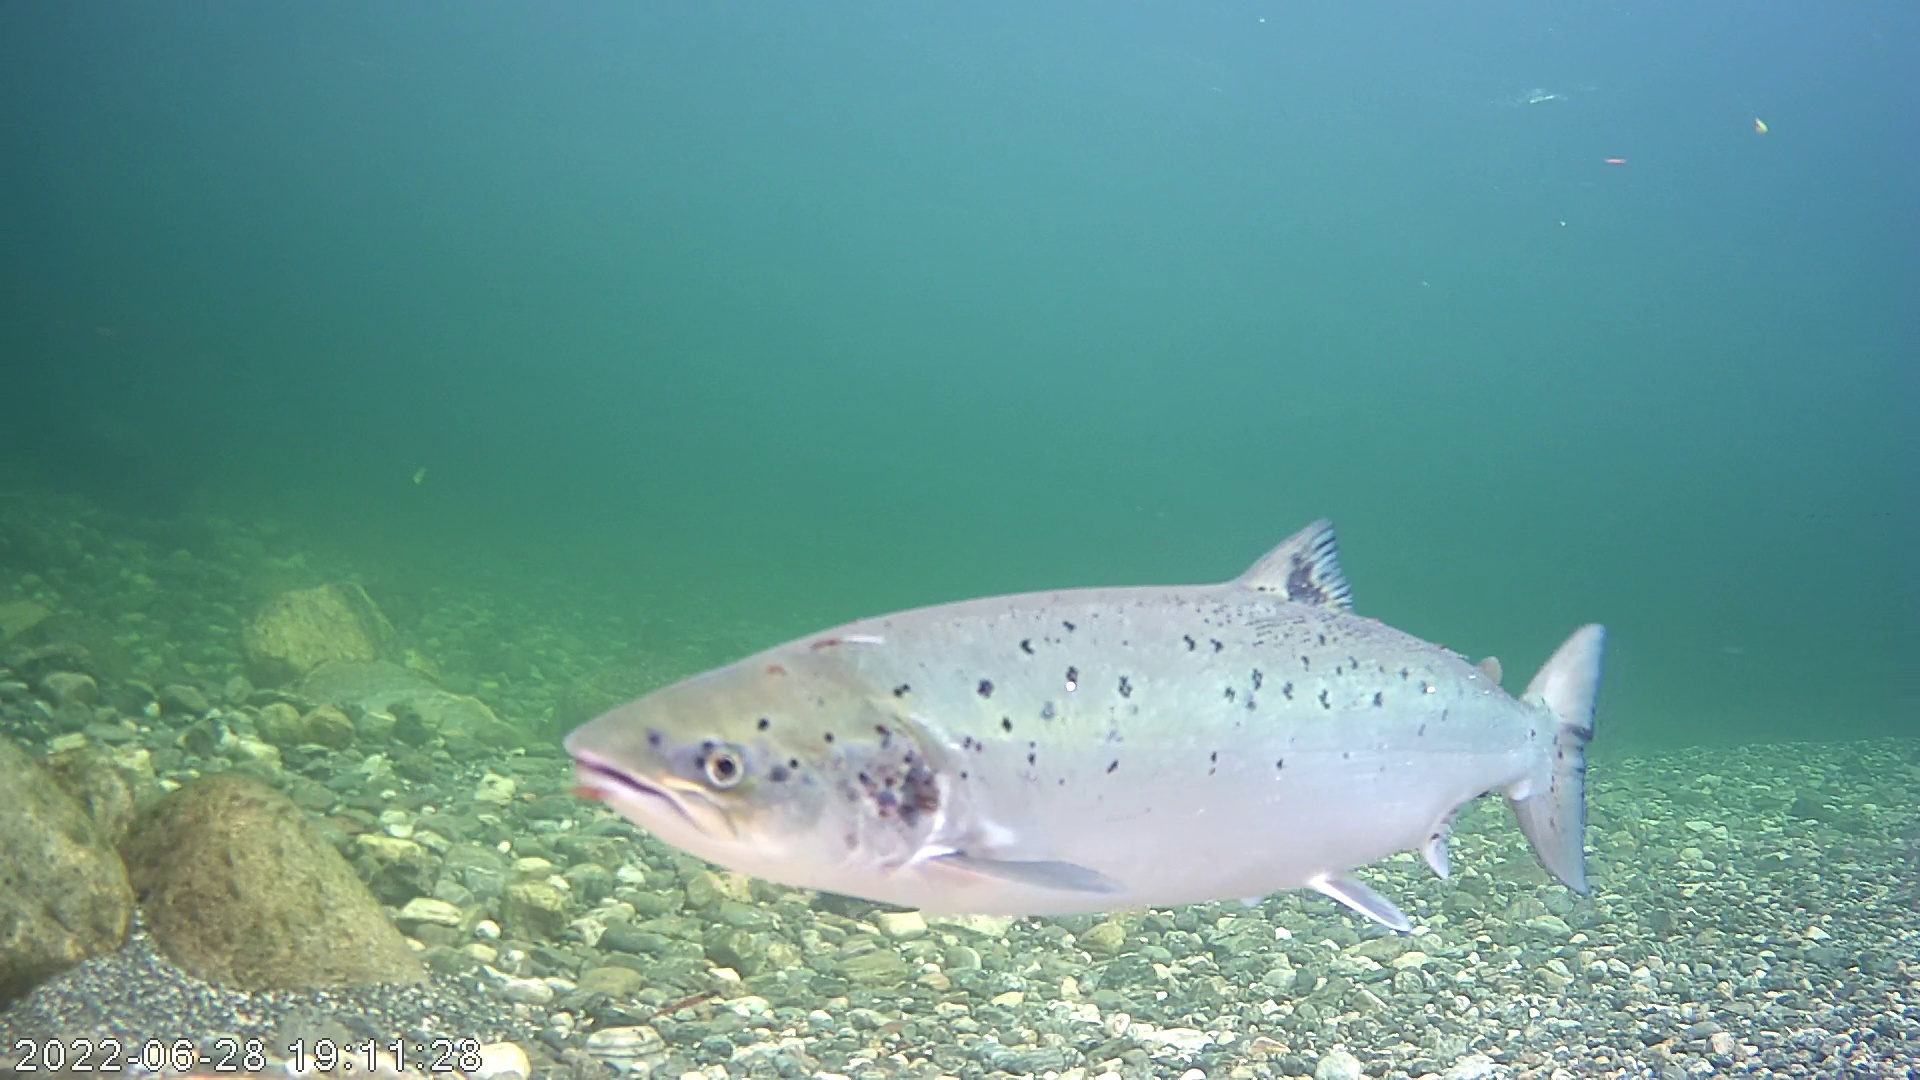salmon: (550, 444, 1631, 920)
